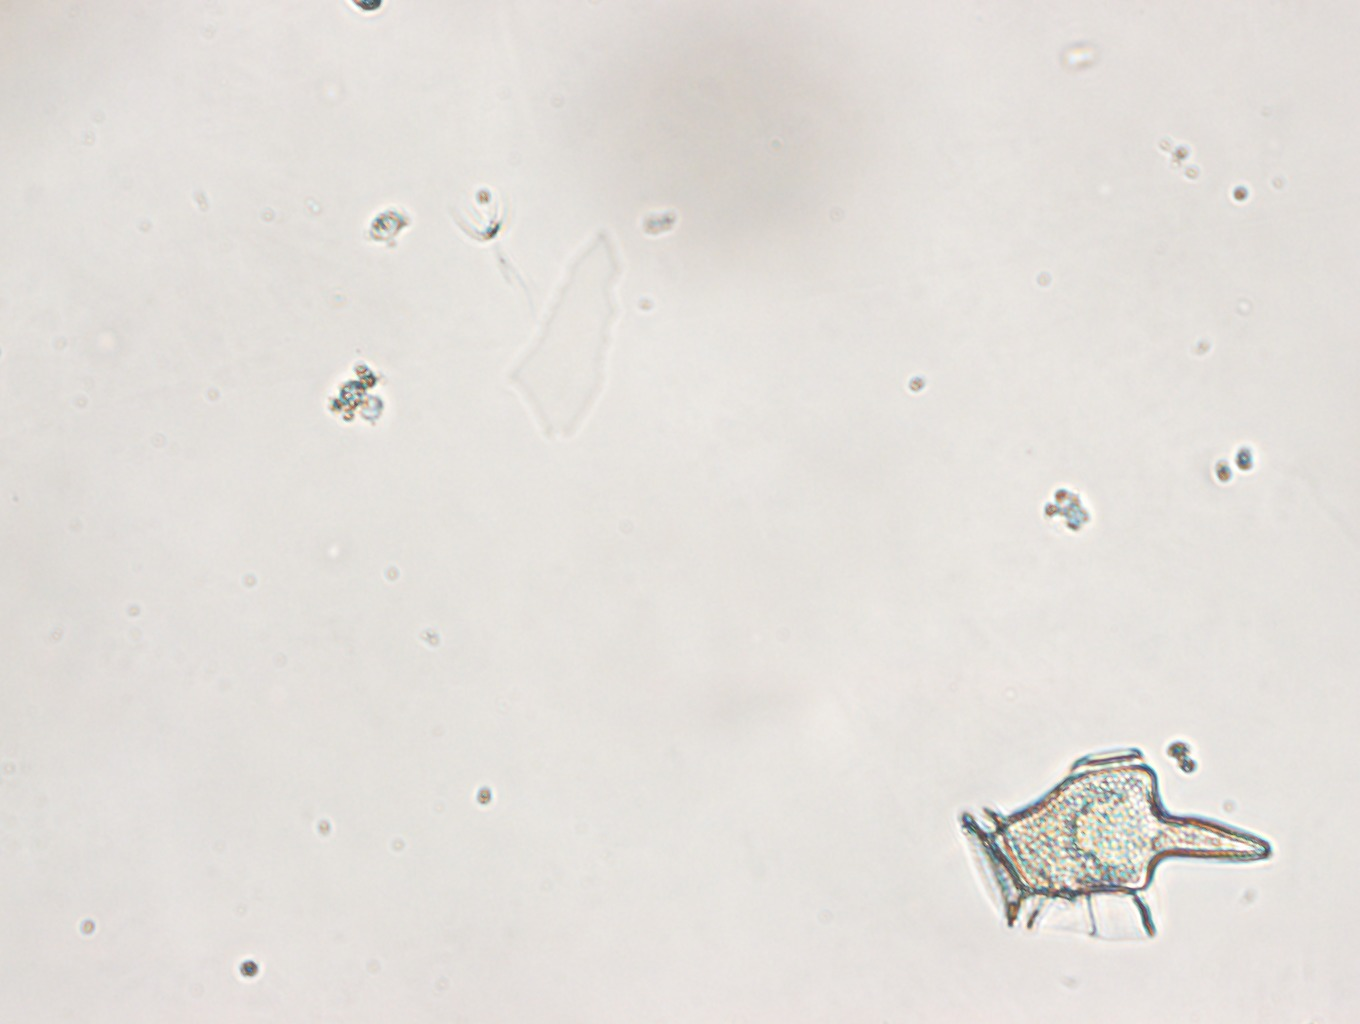dinophysis caudata: (954, 742, 1279, 953)
